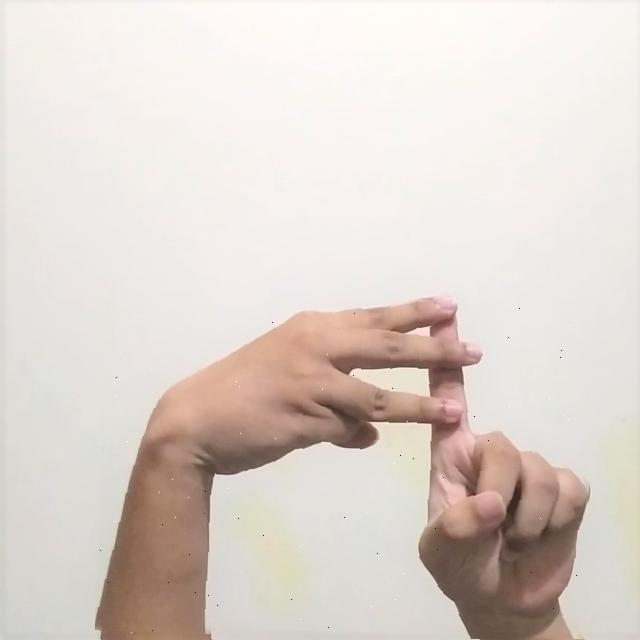B: (96, 300, 588, 640)
